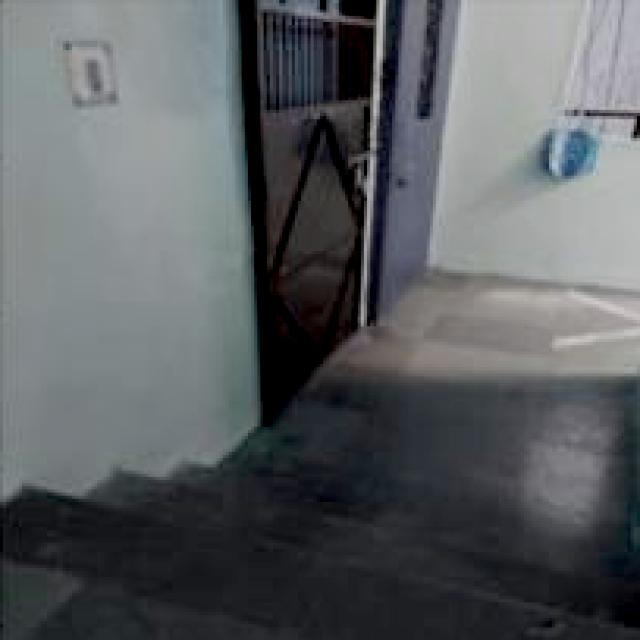downstair: (136, 421, 462, 613)
